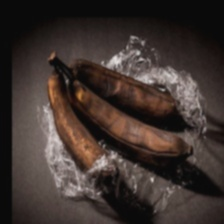banana: (21, 8, 183, 174)
